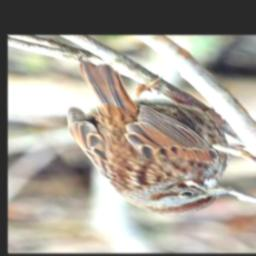Sparrow: (65, 61, 236, 215)
